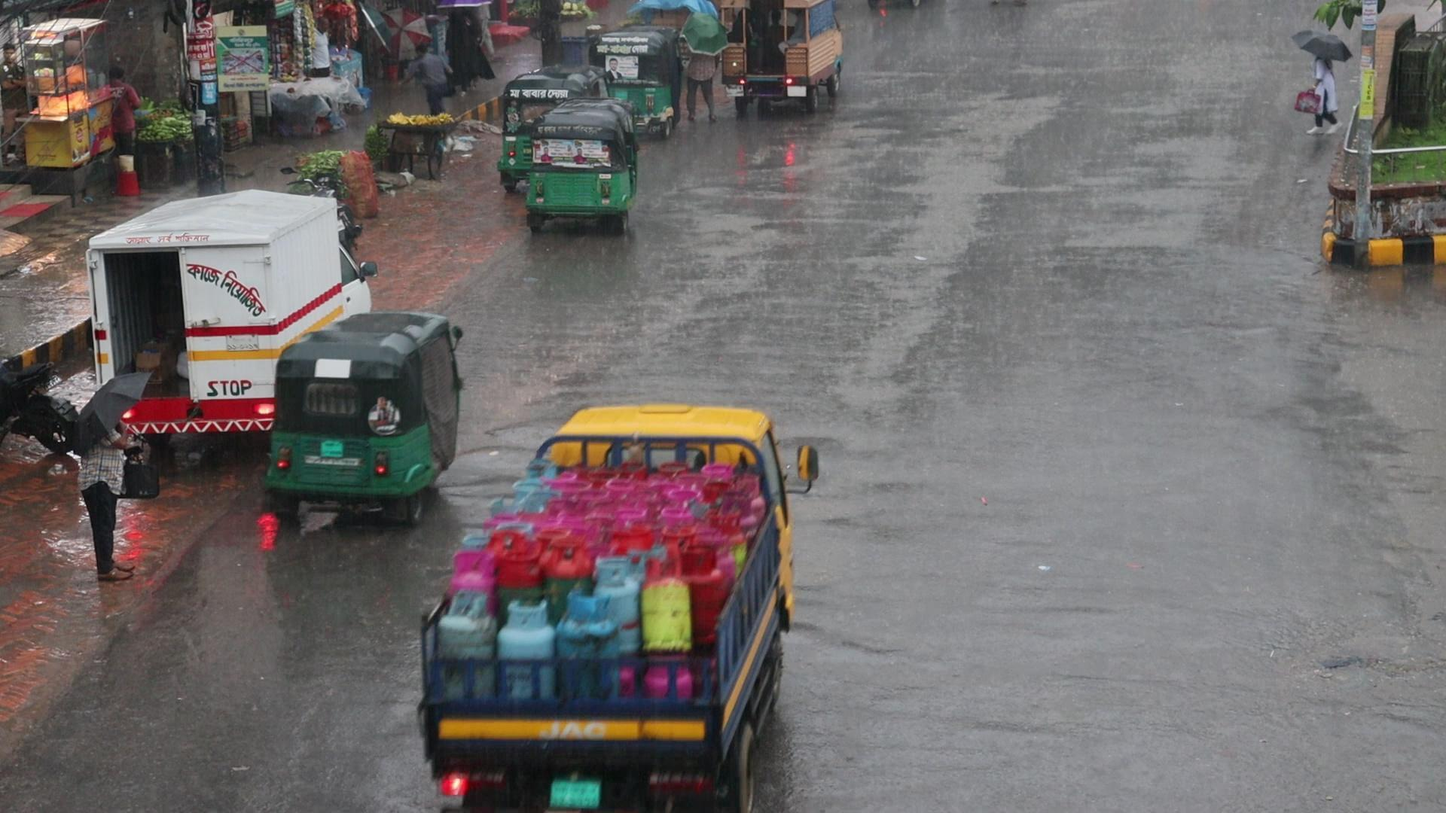Truck: (408, 394, 808, 813)
